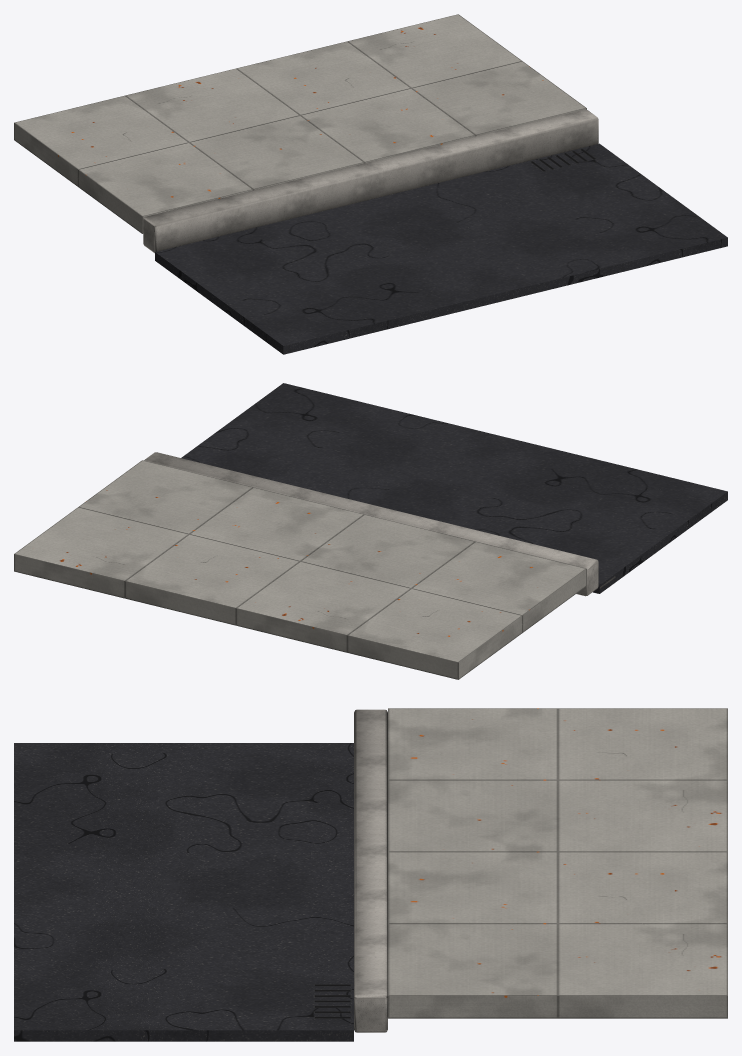
The model's file is WFSidewalk.fbx.
3 views of the same model, one above another, from view 1: azimuth 30°, elevation 25°; view 2: azimuth 150°, elevation 25°; view 3: azimuth 270°, elevation 25° (orthographic). The views are drawn at different scales.
Visible parts, largest first — view 1: WFSidewalk_Asphalt, WFSidewalk_Walk, WFSidewalk_Main; view 2: WFSidewalk_Walk, WFSidewalk_Asphalt, WFSidewalk_Main; view 3: WFSidewalk_Walk, WFSidewalk_Asphalt, WFSidewalk_Main.
Boxes of the visible parts, left/top/right/bottom form: WFSidewalk_Asphalt: left=155, top=143, right=727, bottom=354; WFSidewalk_Walk: left=14, top=14, right=586, bottom=233; WFSidewalk_Main: left=143, top=109, right=598, bottom=253; WFSidewalk_Walk: left=14, top=460, right=586, bottom=679; WFSidewalk_Asphalt: left=181, top=383, right=727, bottom=593; WFSidewalk_Main: left=144, top=452, right=615, bottom=596; WFSidewalk_Walk: left=388, top=708, right=727, bottom=1018; WFSidewalk_Asphalt: left=14, top=743, right=353, bottom=1041; WFSidewalk_Main: left=313, top=709, right=387, bottom=1035.
Size of the model in its own units: 1600 by 120 by 1680.
